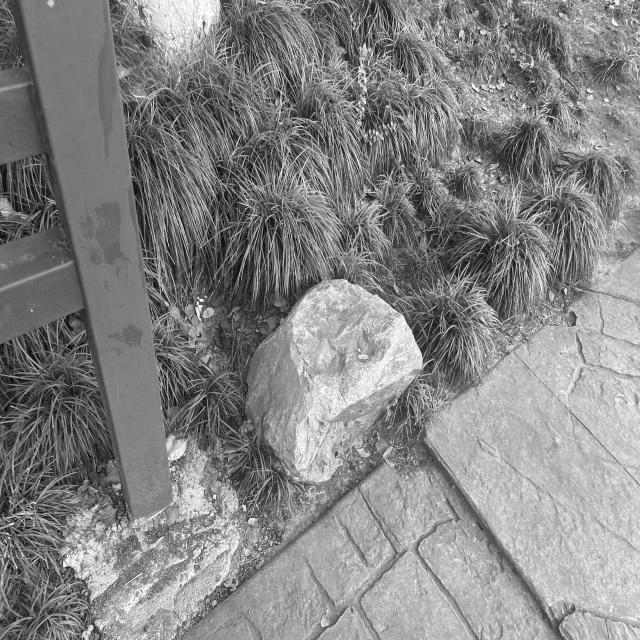Stone: (247, 280, 422, 482)
